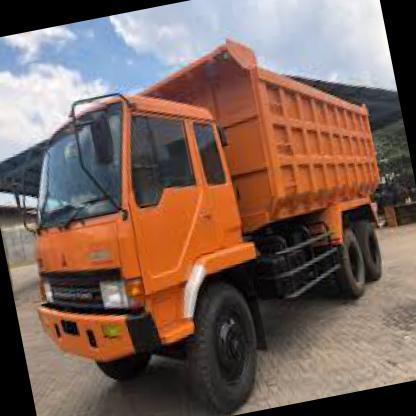truck: (1, 69, 291, 416)
